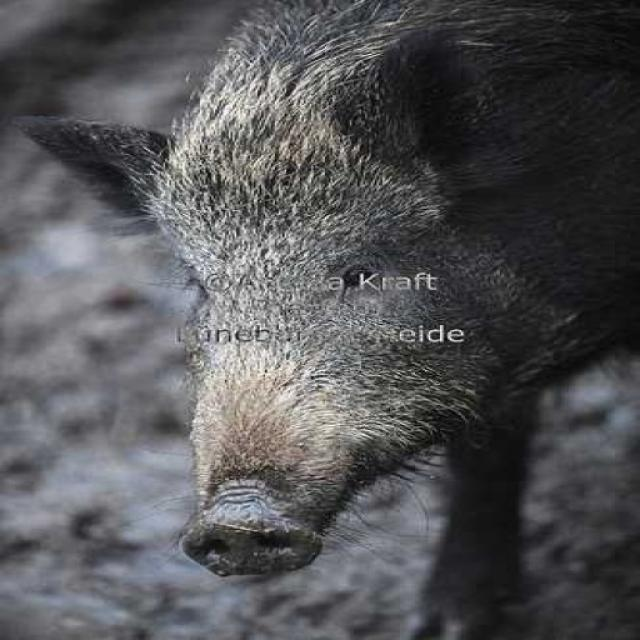pig: (68, 0, 640, 598)
